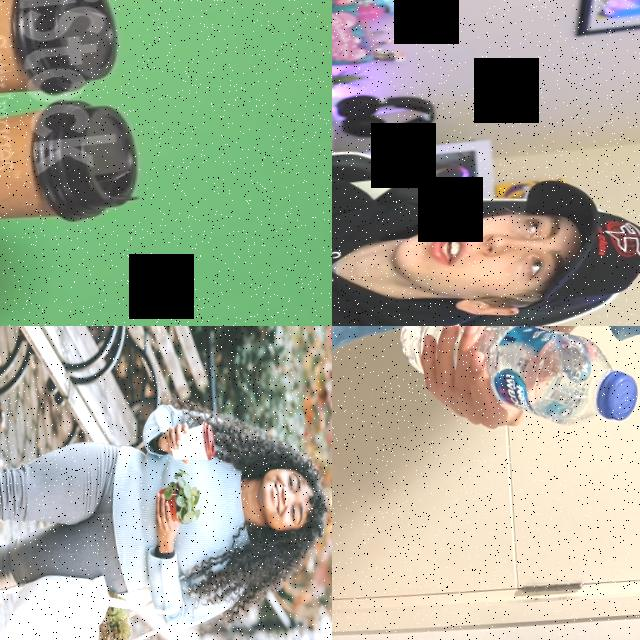bottle: (393, 326, 640, 445)
cup: (0, 92, 142, 242), (0, 0, 123, 117), (167, 420, 216, 467)
